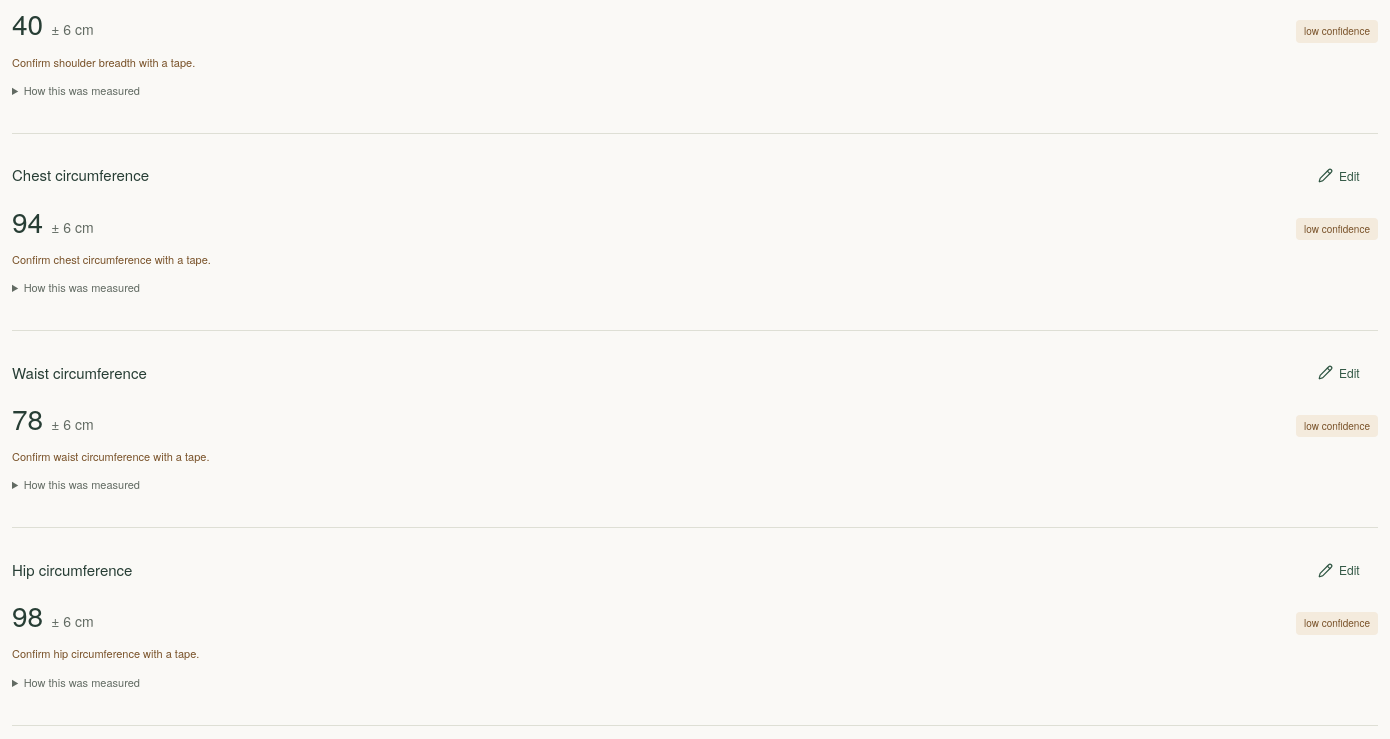
Test: results › edits every result through a validated tape entry
(page scrolled)
Click the button with aria-label "Edit Waist circumference" at point(1348, 373), box [1318, 351, 1378, 395]
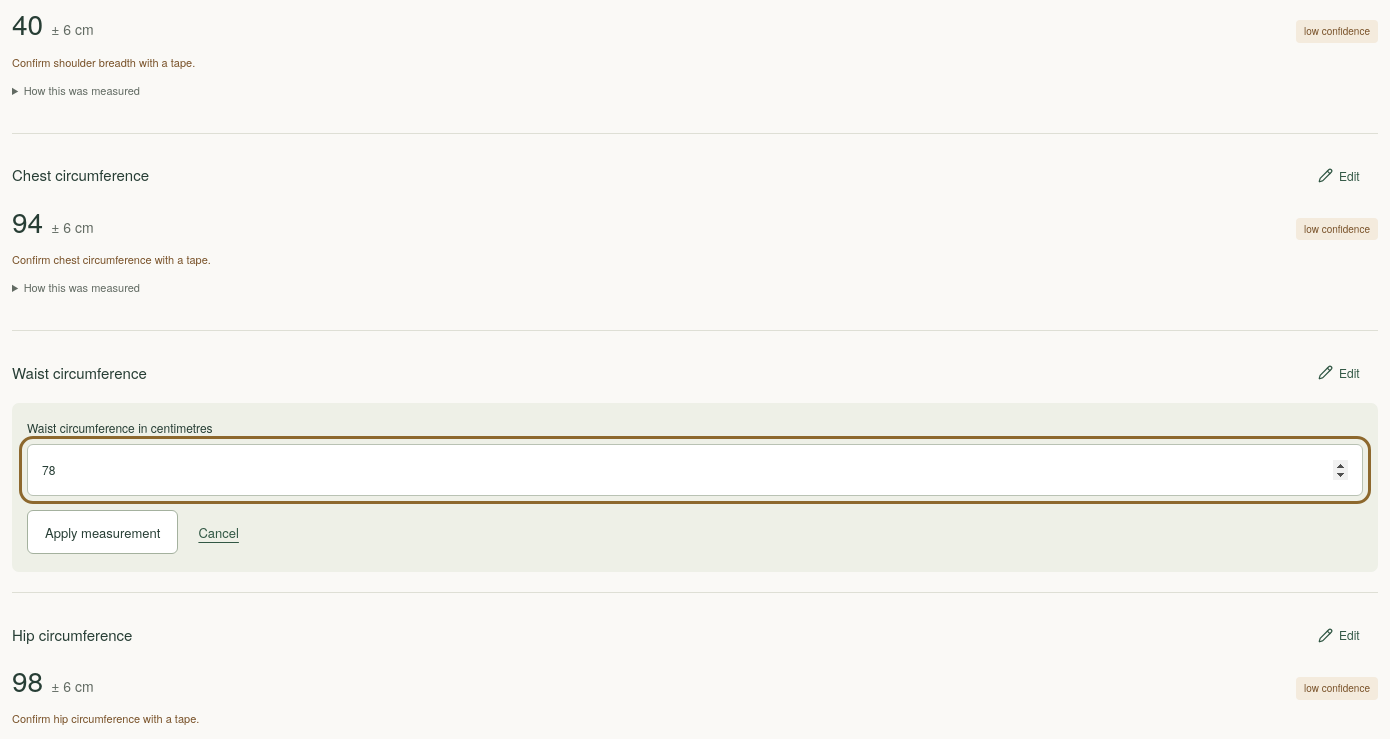
Replace the text in the number field labelled "Waist circumference in centimetres" with "82" at point(695, 470), box [27, 444, 1363, 496]
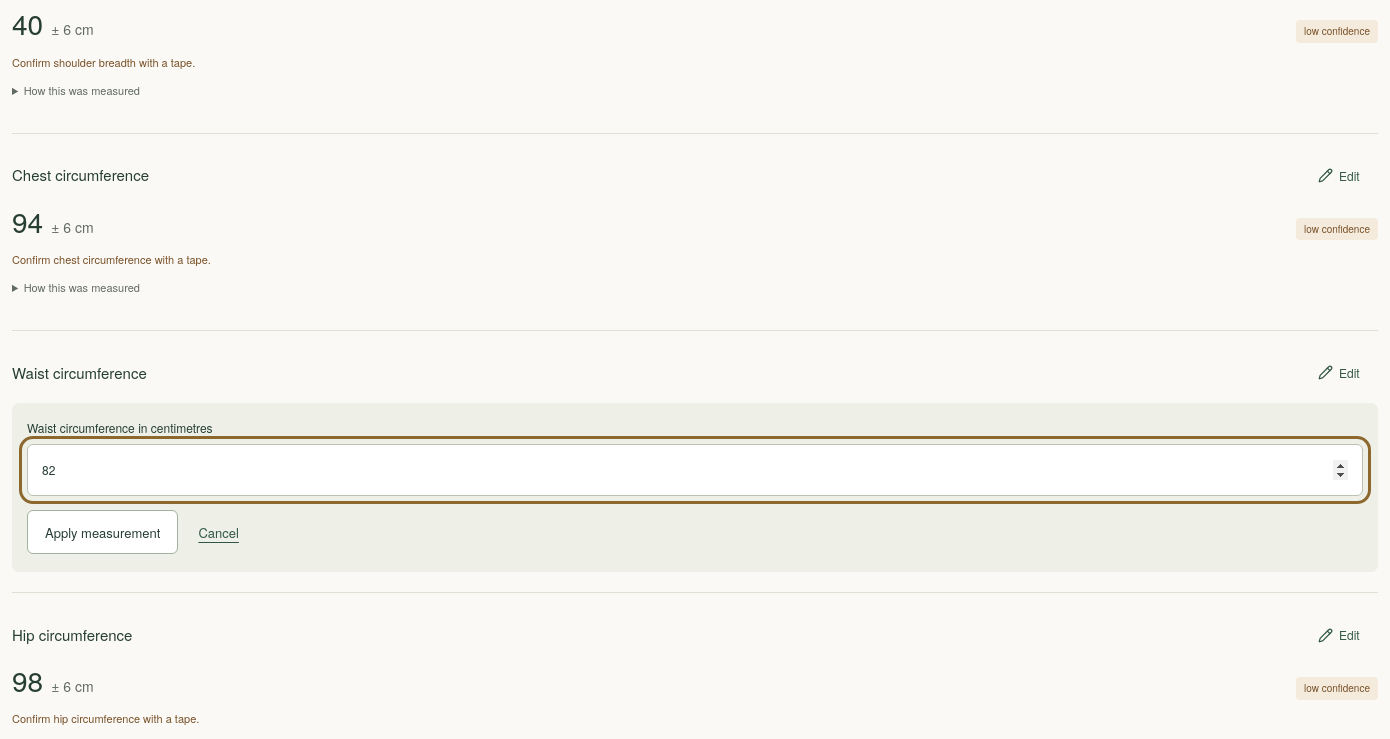
Click the button "Apply measurement" at point(103, 532), box [27, 510, 178, 554]
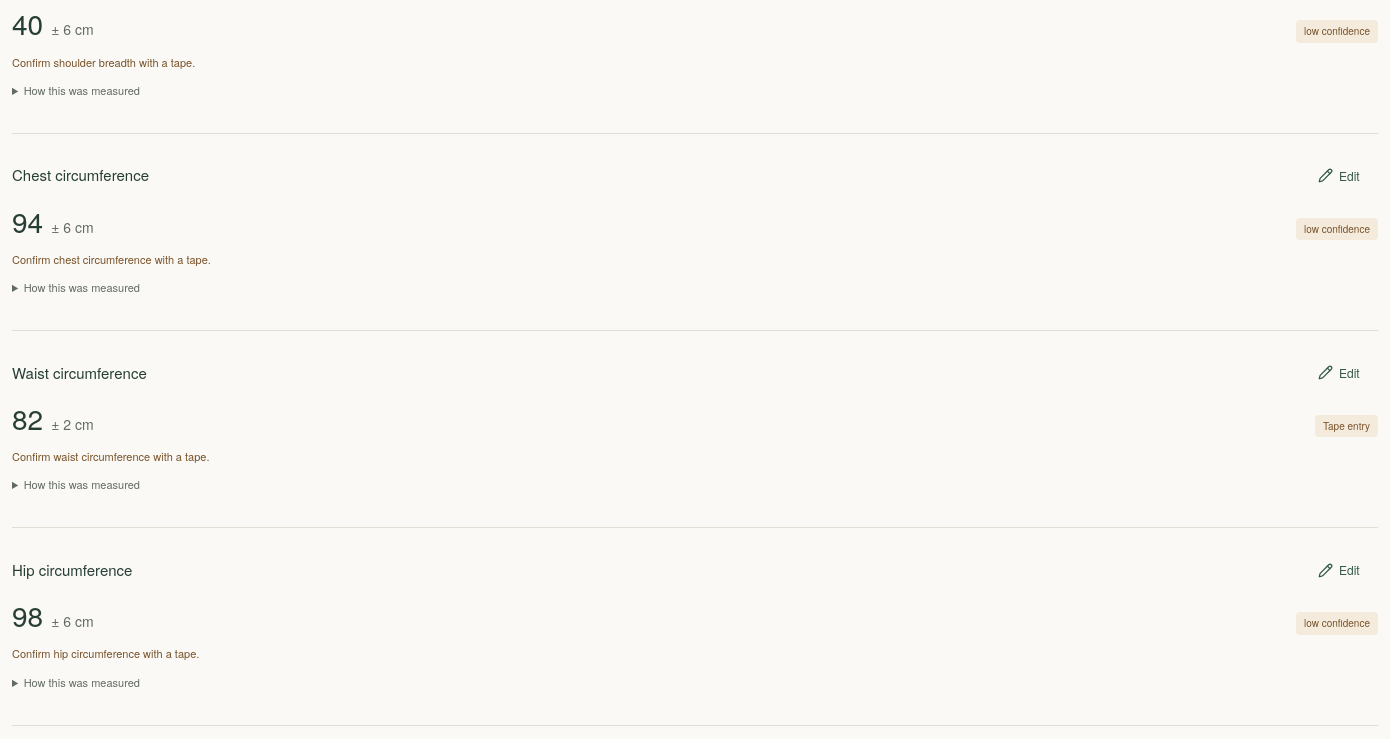
Expected: the text "Tape entry" is shown, [1315, 415, 1378, 438]
